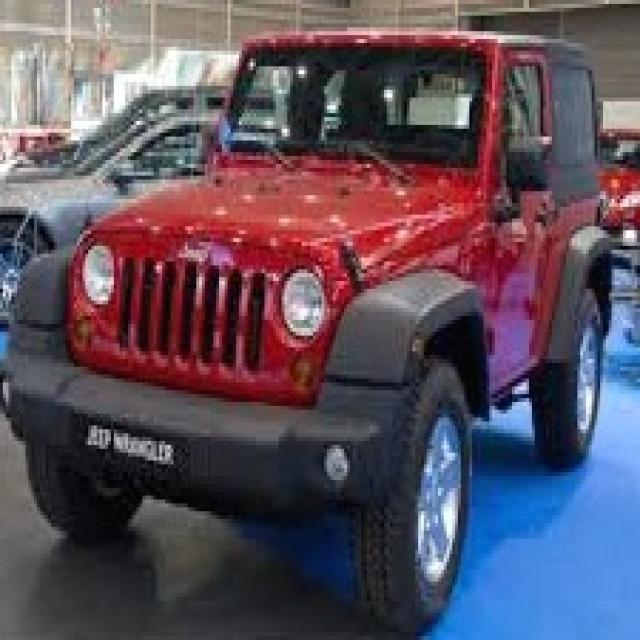red: (23, 25, 612, 540)
